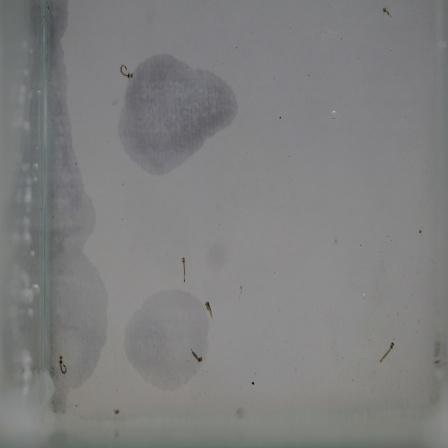Jentik-Nyamuk: (377, 336, 399, 367), (51, 352, 73, 380), (115, 57, 138, 83), (178, 253, 194, 288), (188, 343, 209, 367), (199, 296, 217, 322)
